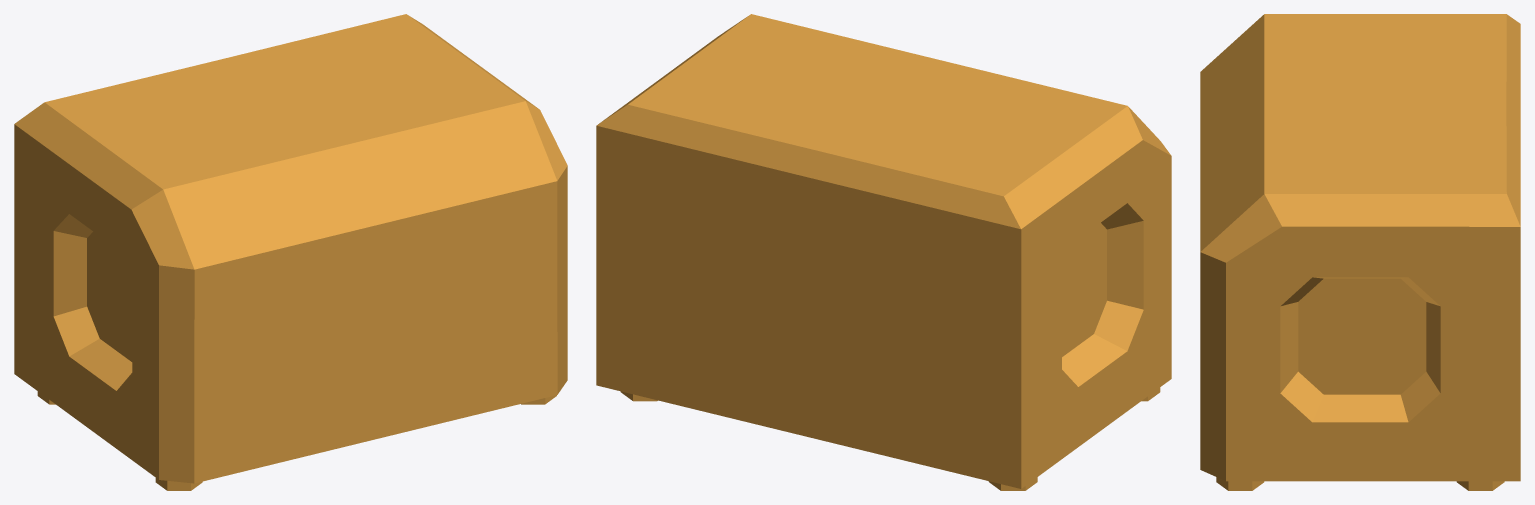
Rendered from scifi-scifi-printer-3d.glb.
The picture shows the model from 3 angles, left to right: view 1: azimuth 30°, elevation 25°; view 2: azimuth 150°, elevation 25°; view 3: azimuth 270°, elevation 25°; orthographic projection. The views are drawn at different scales.
Visible parts, largest first — view 1: scifi-printer-3D; view 2: scifi-printer-3D; view 3: scifi-printer-3D.
Boxes of the visible parts, box(x1,y1,x2,y2) form: scifi-printer-3D: box(14, 14, 567, 490); scifi-printer-3D: box(596, 14, 1171, 490); scifi-printer-3D: box(1200, 14, 1520, 490).
Size of the model in its own units: 1.5 by 1 by 1.
